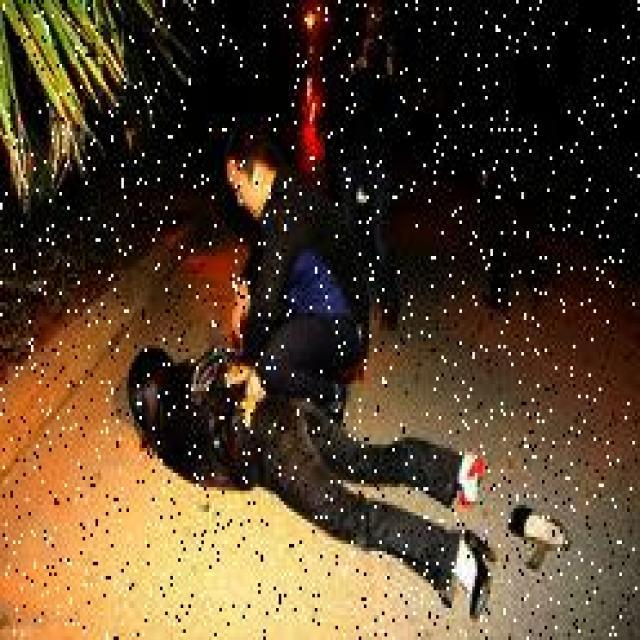fall: (116, 345, 503, 597)
